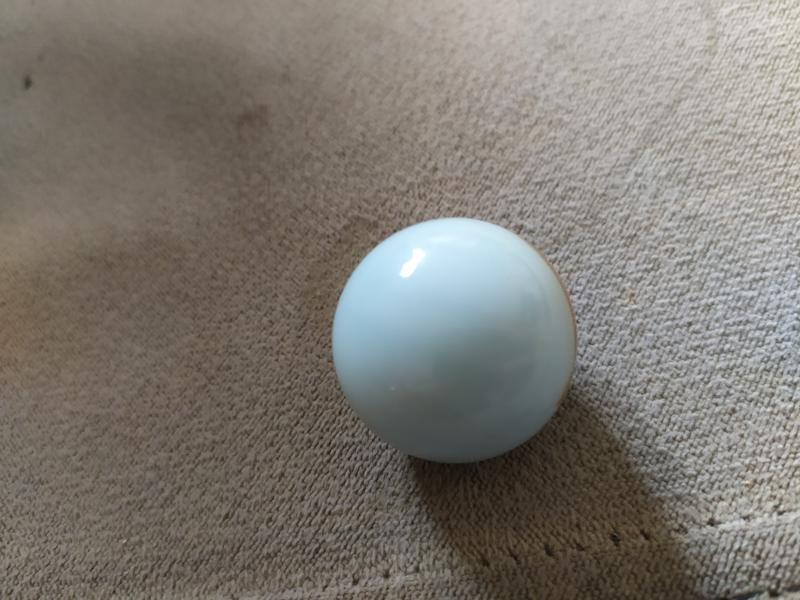Warning: (327, 213, 584, 471)
